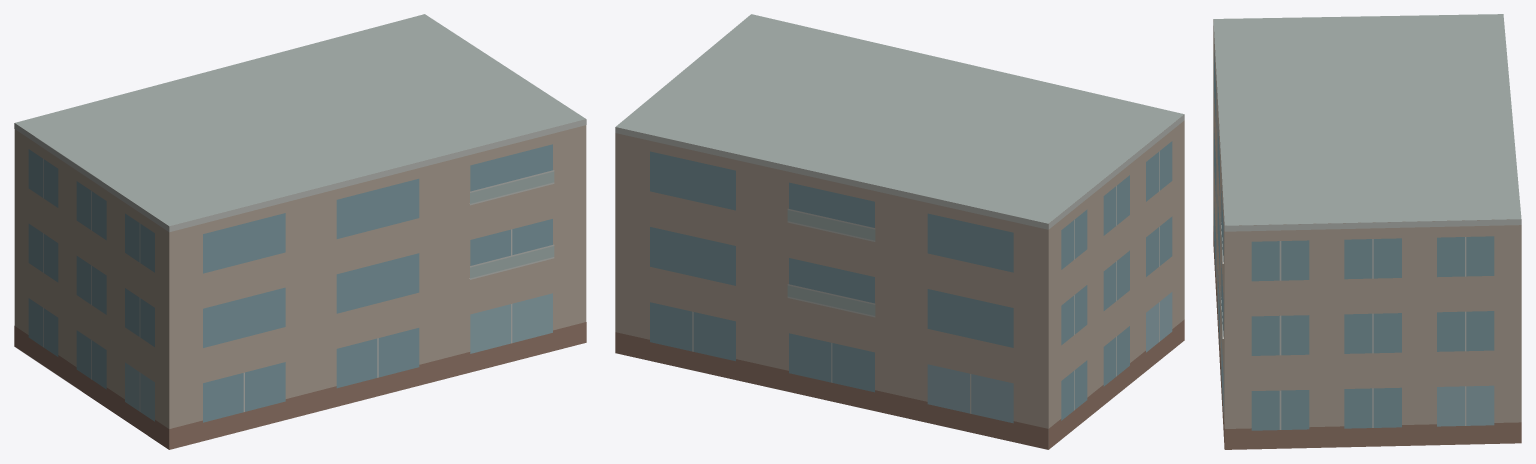
The model's file is survey-upis-32496579.glb.
The picture shows the model from 3 angles, left to right: view 1: azimuth 30°, elevation 25°; view 2: azimuth 150°, elevation 25°; view 3: azimuth 270°, elevation 25°; orthographic projection.
Visible parts, largest first — view 1: survey-upis-32496579.tmp; view 2: survey-upis-32496579.tmp; view 3: survey-upis-32496579.tmp.
Boxes of the visible parts, x1=… form: survey-upis-32496579.tmp: x1=14, y1=14, x2=586, y2=449; survey-upis-32496579.tmp: x1=615, y1=14, x2=1184, y2=449; survey-upis-32496579.tmp: x1=1213, y1=14, x2=1521, y2=449.
Size of the model in its own units: 18.55 by 9.15 by 11.41.
